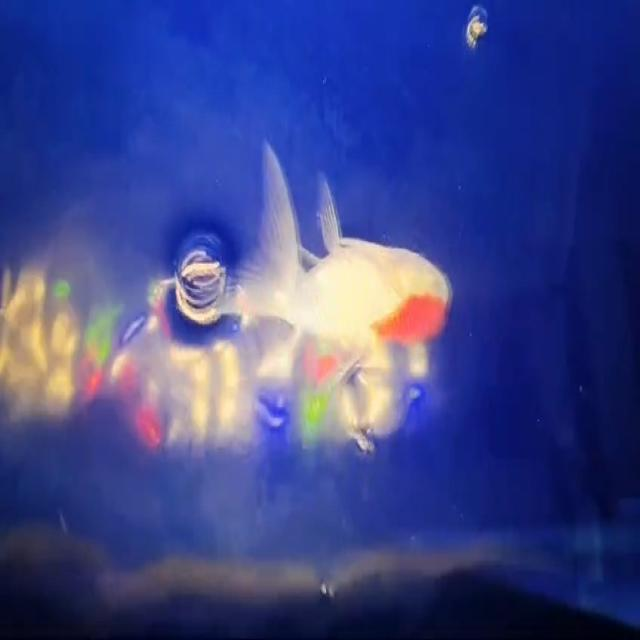fish: (207, 148, 452, 380)
